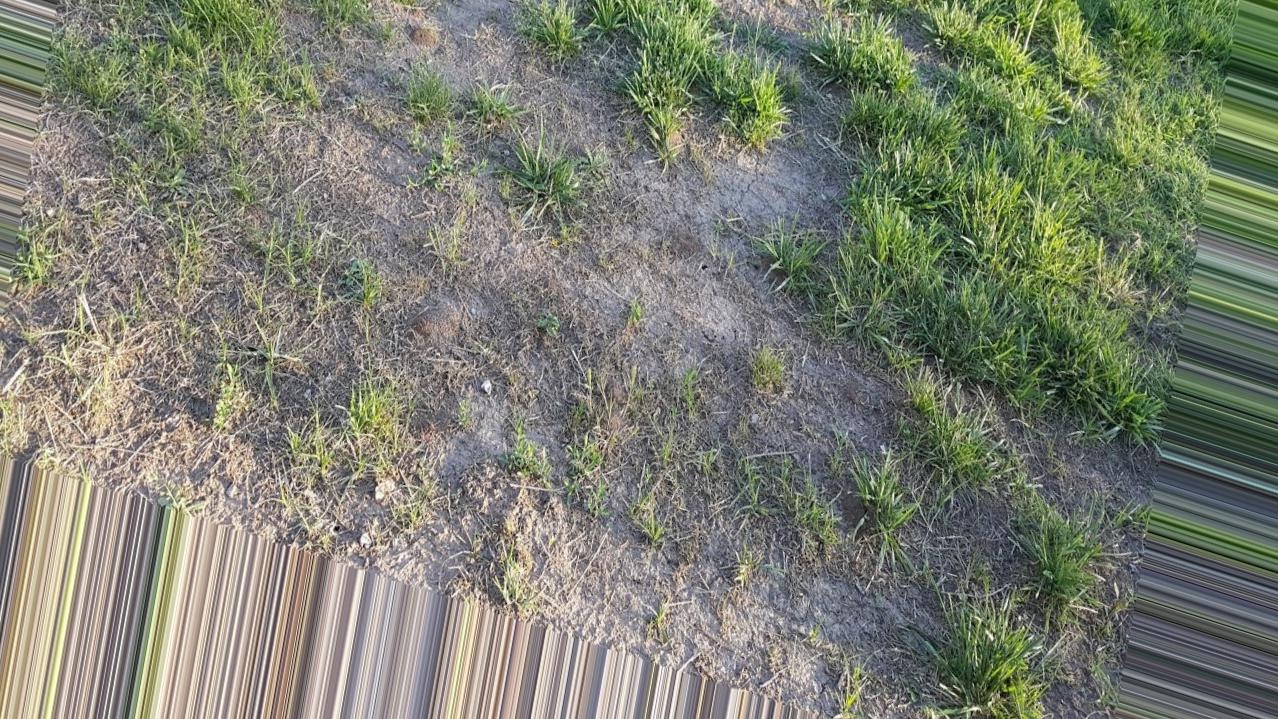patch: (360, 25, 795, 499), (73, 175, 341, 495), (576, 526, 902, 670)
